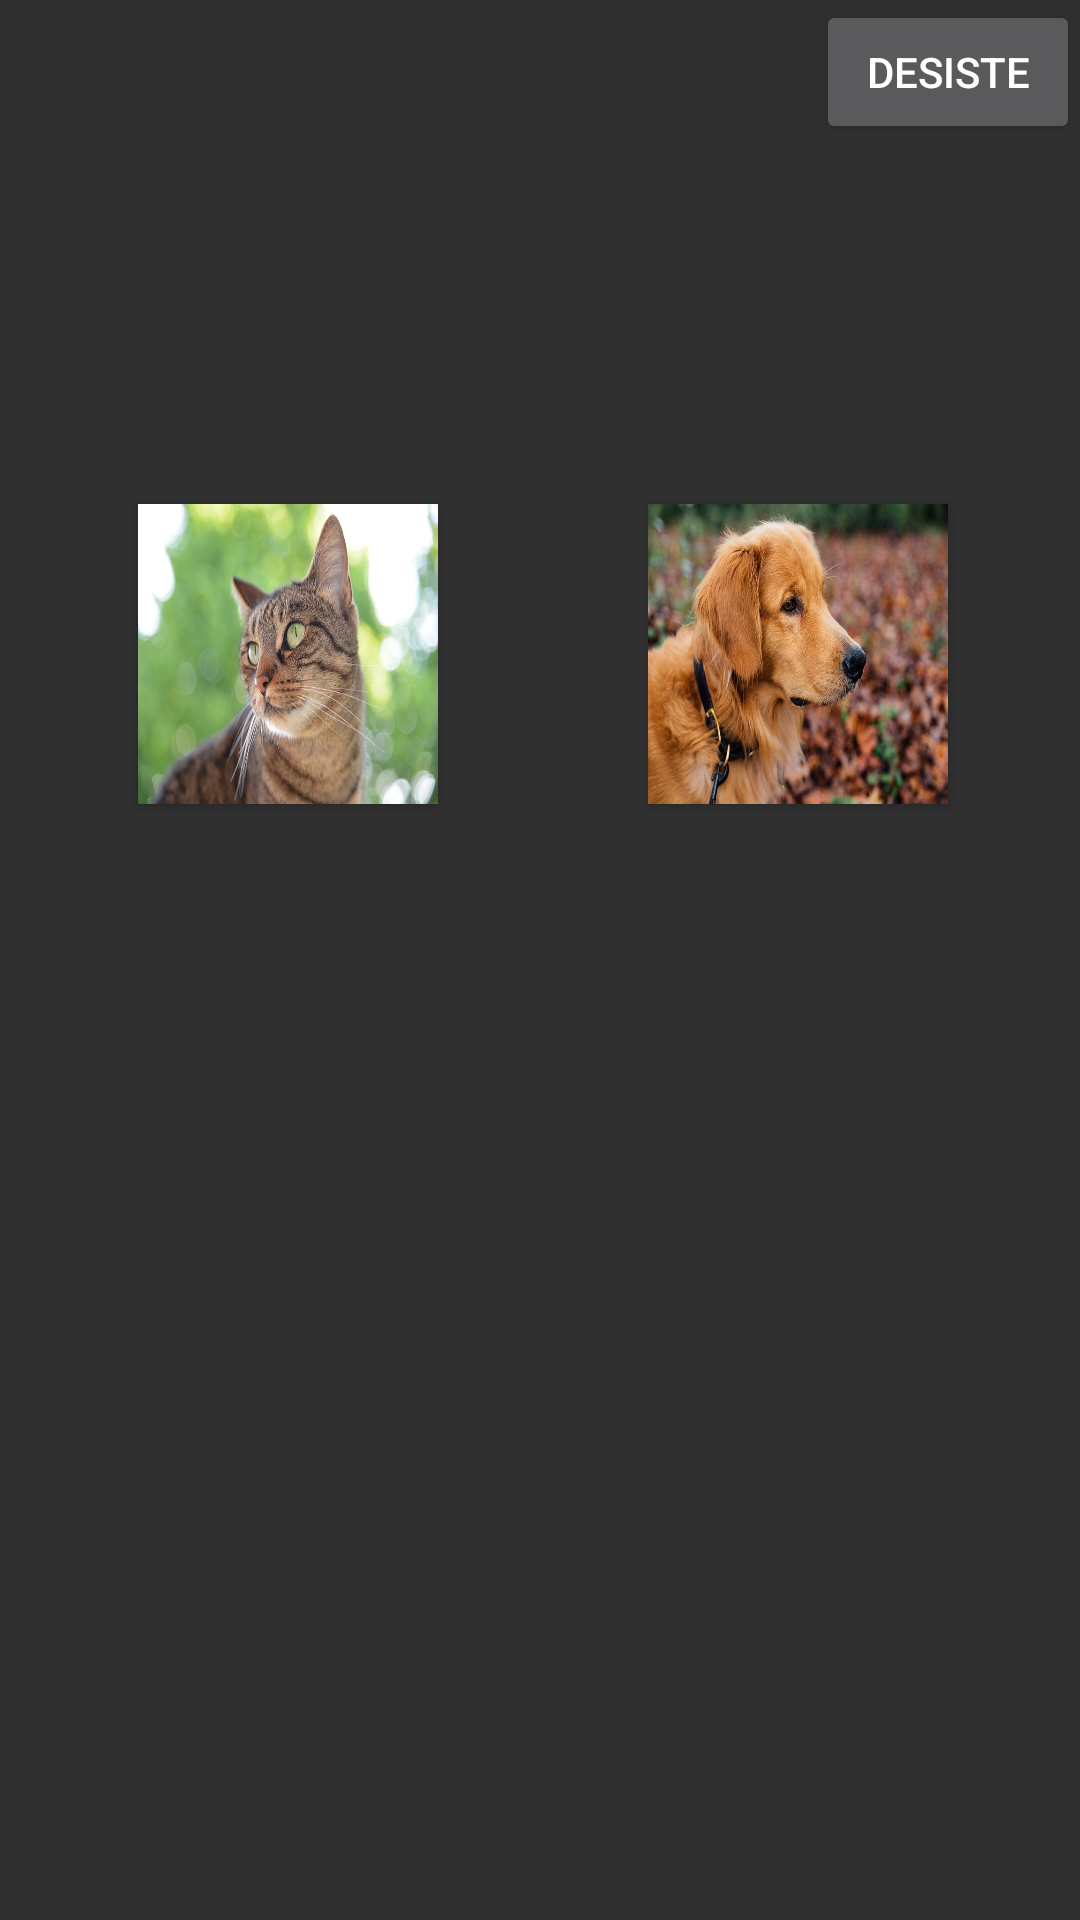

Icon click points for this 1080x1920 phone screenshot, format (x=x, y=y):
cachorro: (x=798, y=654)
